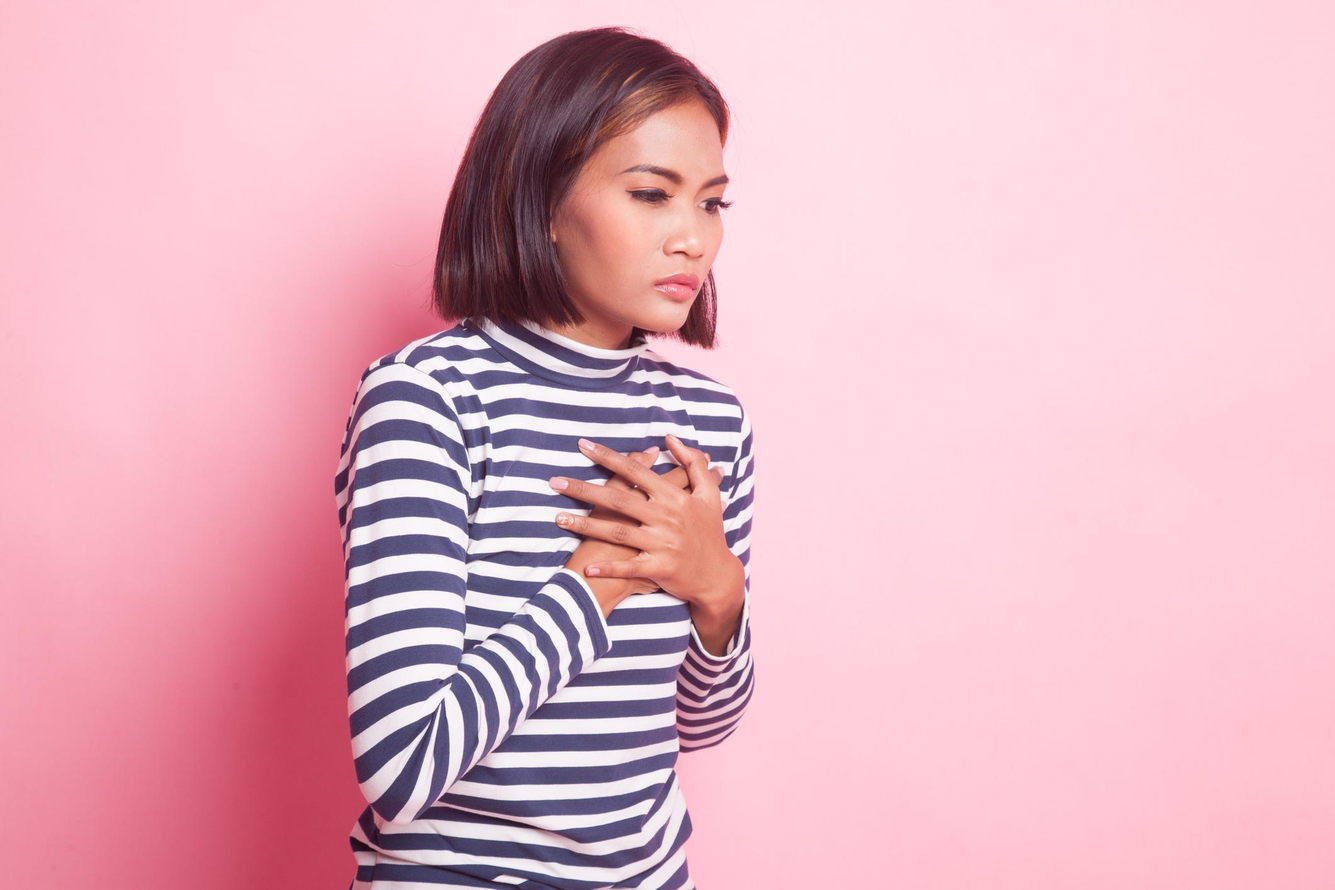pain: (614, 158, 736, 240)
